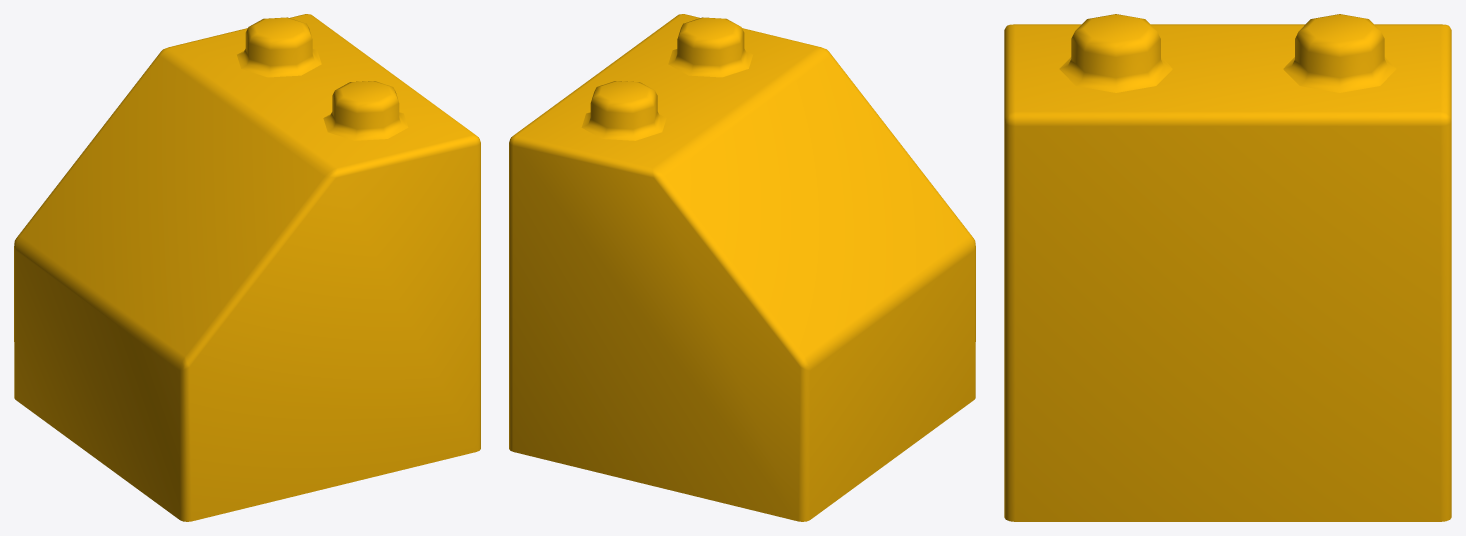
The model's file is Half_Ramp.fbx.
The picture shows the model from 3 angles, left to right: view 1: azimuth 30°, elevation 25°; view 2: azimuth 150°, elevation 25°; view 3: azimuth 270°, elevation 25°; orthographic projection. The views are drawn at different scales.
Visible parts, largest first — view 1: Half_Ramp, Knobs.013; view 2: Half_Ramp, Knobs.013; view 3: Half_Ramp, Knobs.013.
Part boxes in pixels (x1=…): Half_Ramp: x1=14, y1=14, x2=480, y2=521; Knobs.013: x1=237, y1=17, x2=408, y2=140; Half_Ramp: x1=509, y1=14, x2=975, y2=521; Knobs.013: x1=581, y1=17, x2=752, y2=140; Half_Ramp: x1=1004, y1=24, x2=1451, y2=521; Knobs.013: x1=1059, y1=14, x2=1396, y2=92.
Size of the model in its own units: 1 by 1.1 by 1.
